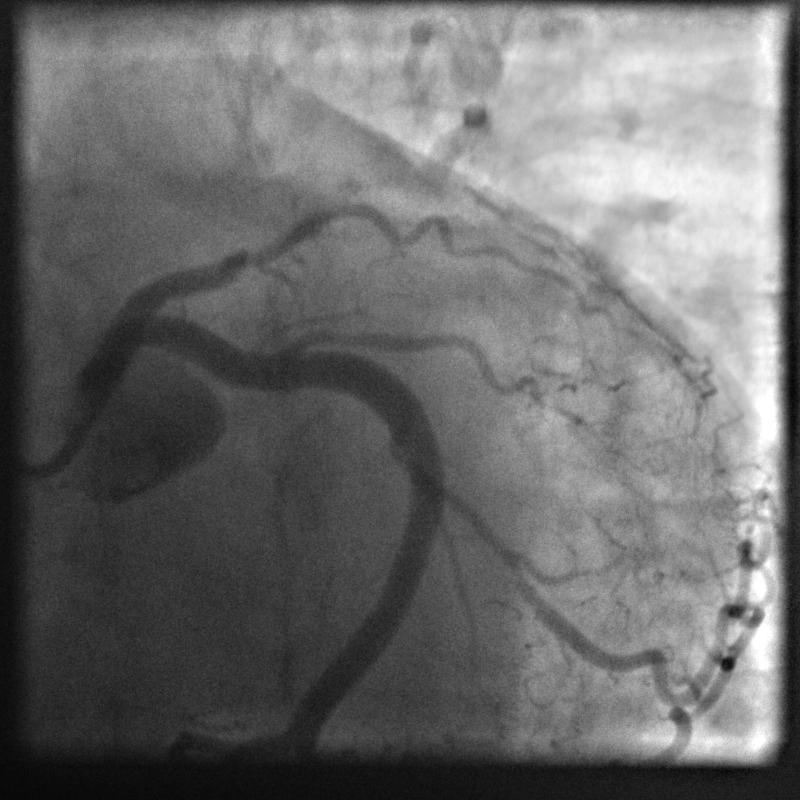Stenosis: (418, 457, 524, 578)
